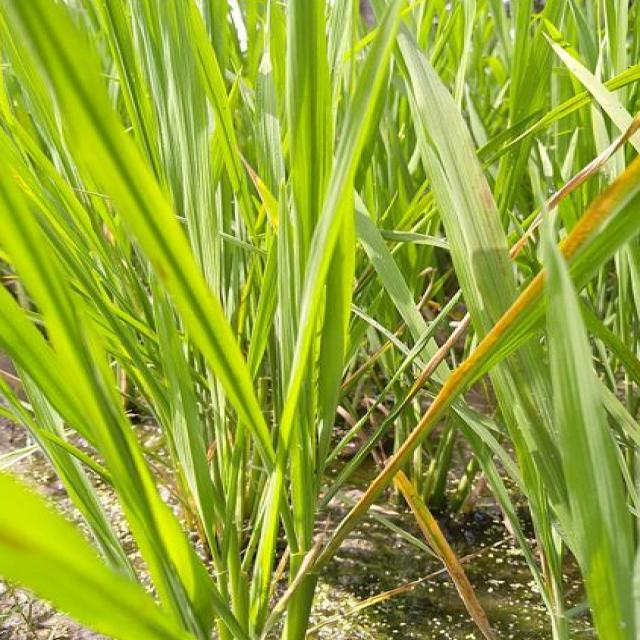Leaf Streak: (318, 271, 544, 563), (547, 113, 640, 211), (558, 152, 640, 262), (416, 313, 470, 390), (508, 209, 543, 262)
